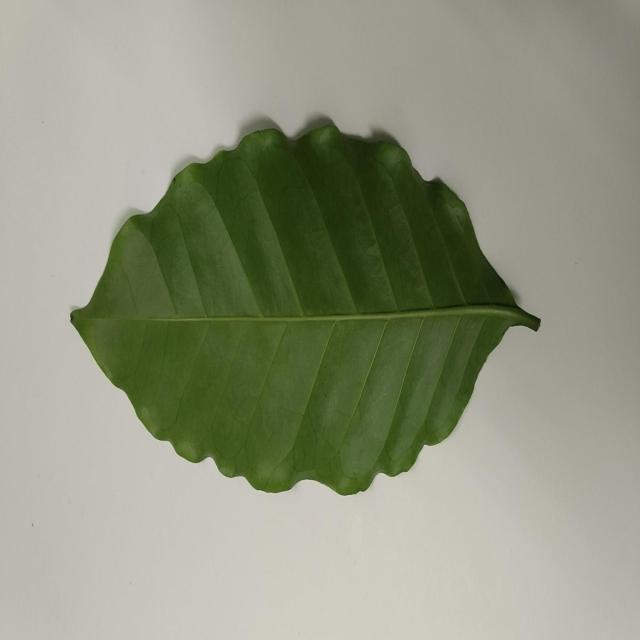Sanas: (68, 116, 541, 499)
